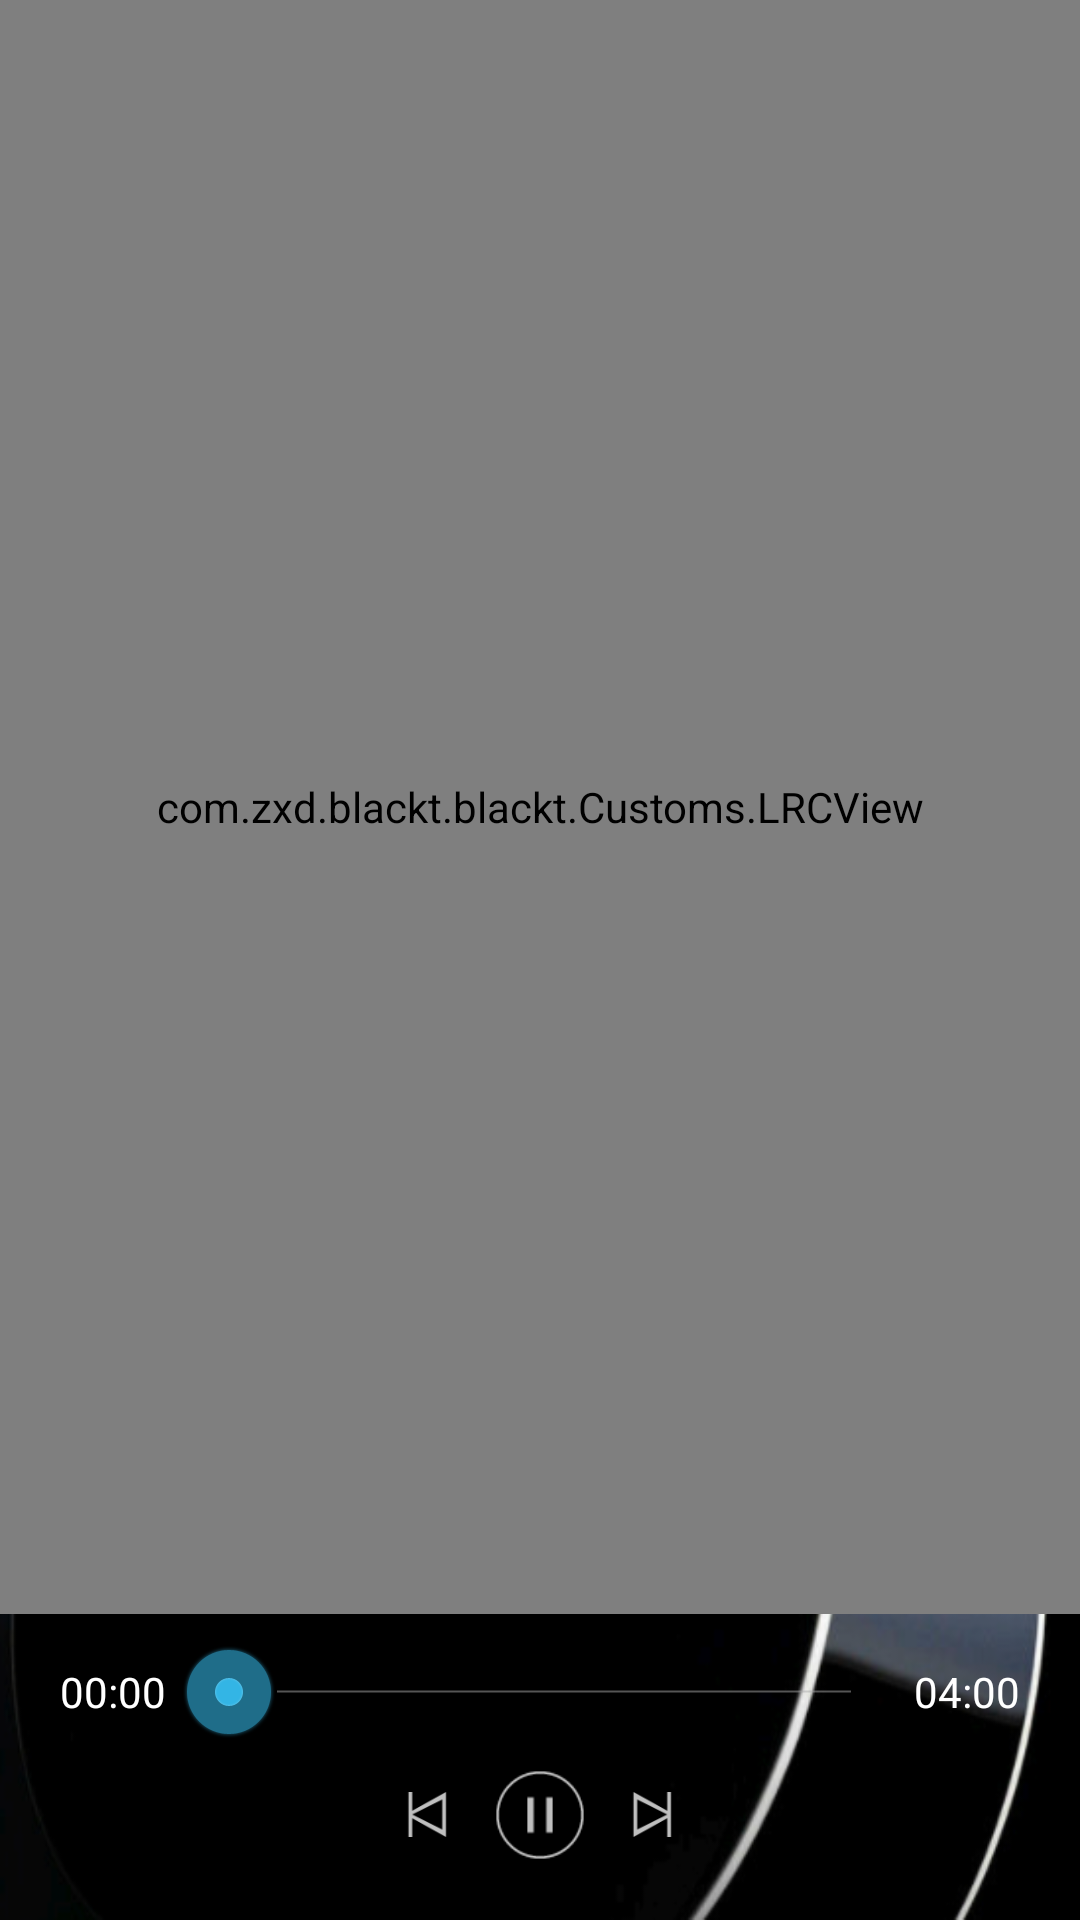

Icon bounding boxes for this 1080 × 1920 phone screenshot, format Rect(x1, y1, x2, y2):
frount: Rect(408, 1792, 447, 1837)
next: Rect(633, 1792, 672, 1837)
